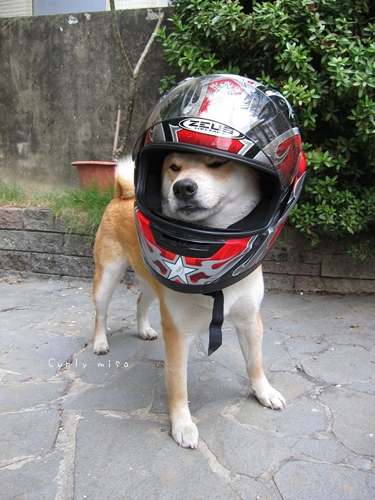helmet: (133, 91, 308, 283)
